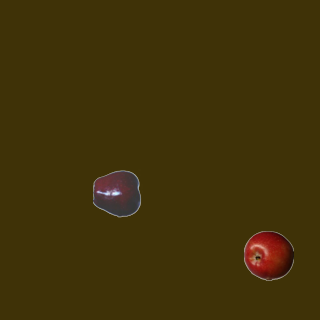Apple Braeburn: (243, 230, 293, 280)
Apple Red Delicious: (92, 168, 142, 218)
